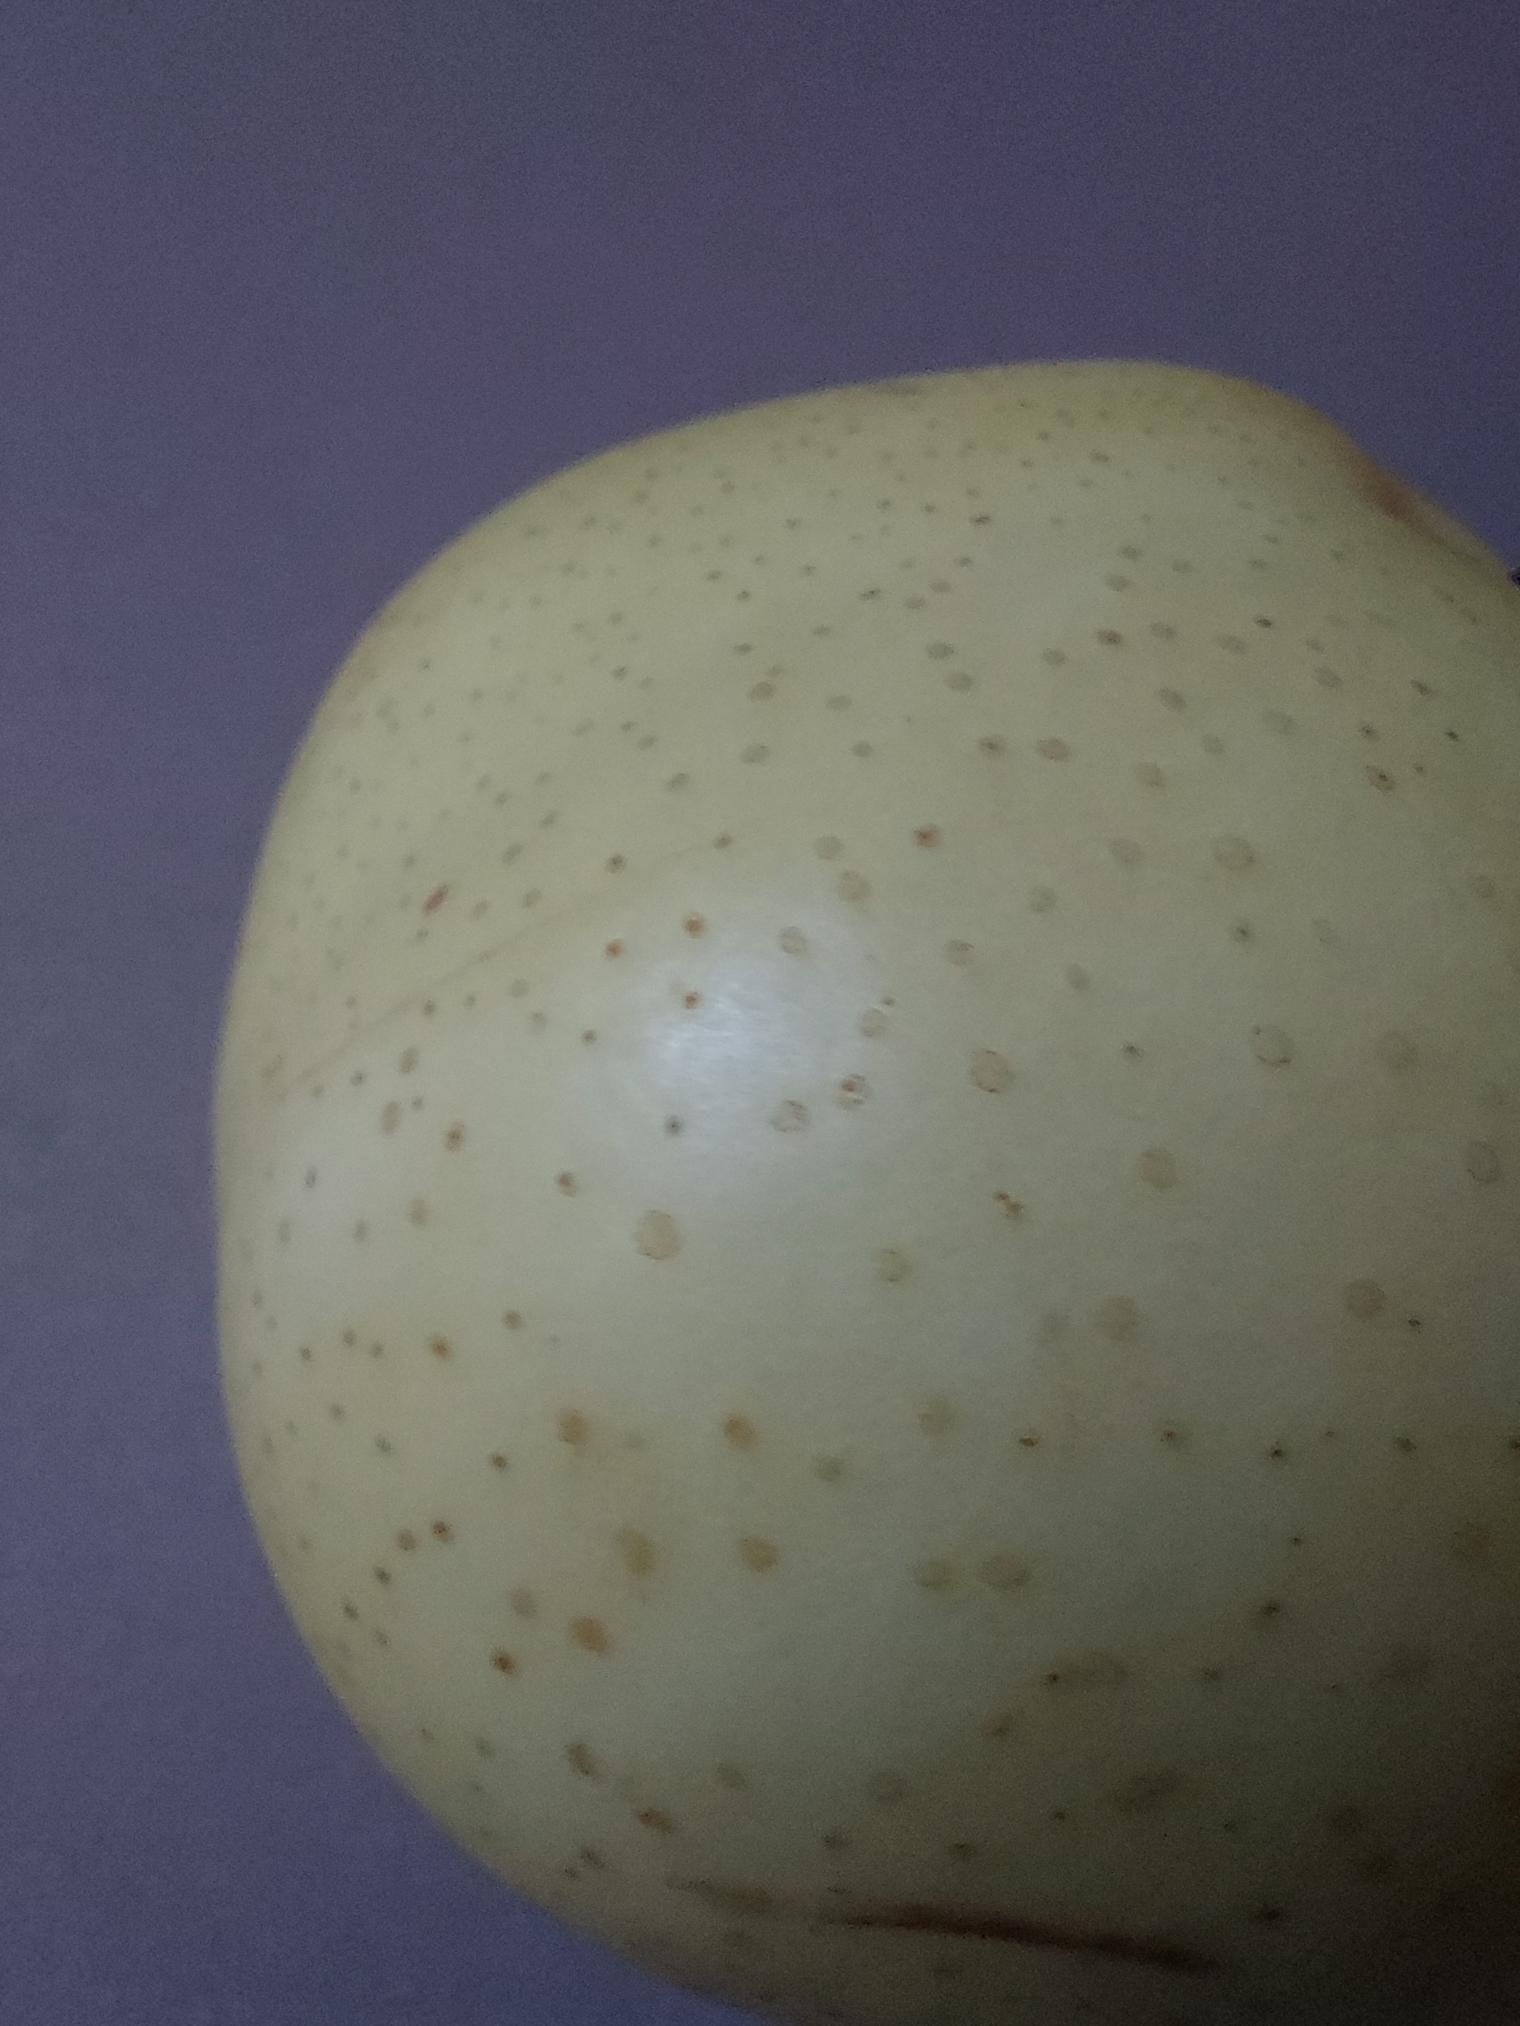Good Pear: (203, 351, 1506, 2026)
